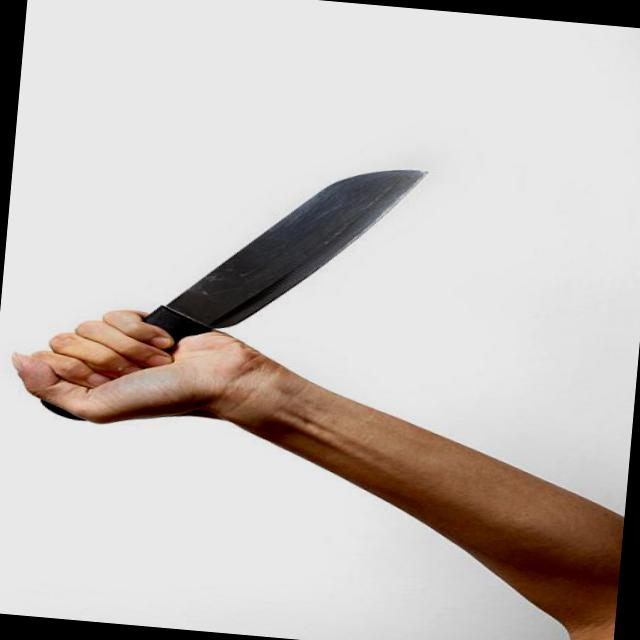knife: (39, 132, 439, 408)
